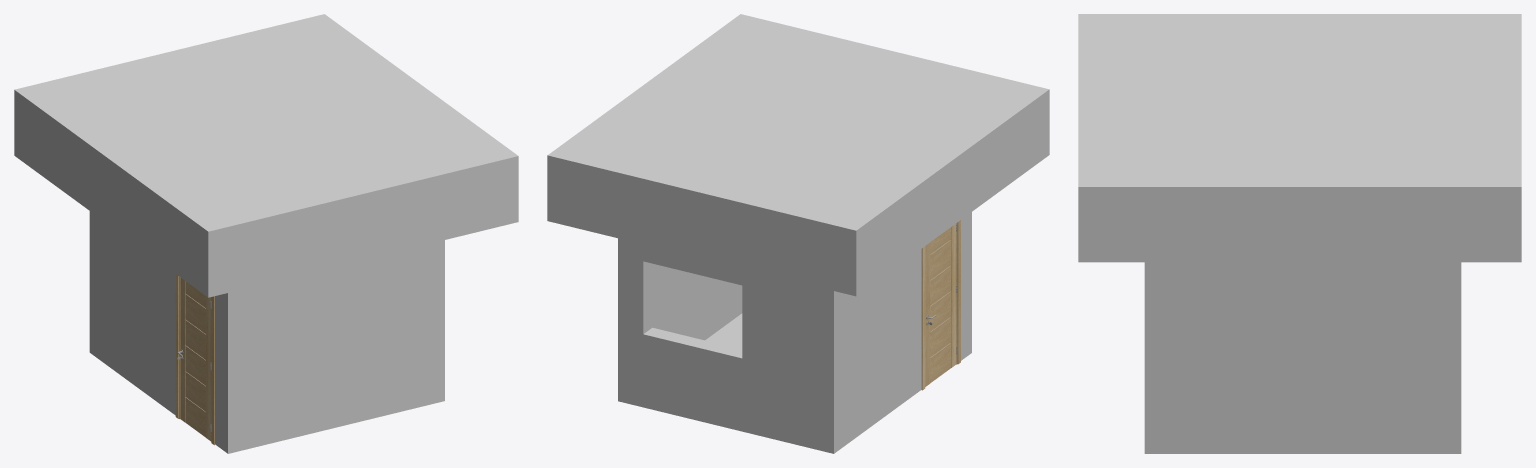
File: cabine.fbx
3 views of the same model, side by side, from view 1: azimuth 30°, elevation 25°; view 2: azimuth 150°, elevation 25°; view 3: azimuth 270°, elevation 25° (orthographic). The views are drawn at different scales.
Visible parts, largest first — view 1: Componente_34_1, Componente_55_1, Door_Modern___Swing___DO_DUNG1, Door_Modern___Swing___DO_DUNG2, Door_Modern___Frame___CHI_TRAI_SAU1, Door_Modern___Frame___CHI_PHAI_SAU1, Door_Modern___Swing___PANEL_1_1, Door_Modern___Swing___PANEL_5_1, Door_Modern___Swing___PANEL_2_1, Door_Modern___Swing___PANEL_3_1, Door_Modern___Swing___PANEL_4_1; view 2: Componente_34_1, Componente_55_1, Door_Modern___Swing___DO_DUNG1, Door_Modern___Swing___DO_DUNG2, Door_Modern___Frame___CHI_TRAI_SAU1, Door_Modern___Frame___CHI_PHAI_SAU1, Door_Modern___Swing___PANEL_4_1, Door_Modern___Swing___PANEL_1_1, Door_Modern___Swing___PANEL_5_1, Door_Modern___Swing___PANEL_2_1, Door_Modern___Swing___PANEL_3_1; view 3: Componente_34_1, Componente_55_1.
Boxes of the visible parts, <box> form: Componente_34_1: <box>14,14,518,297</box>; Componente_55_1: <box>89,211,444,453</box>; Door_Modern___Swing___DO_DUNG1: <box>206,296,211,441</box>; Door_Modern___Swing___DO_DUNG2: <box>180,277,185,422</box>; Door_Modern___Frame___CHI_TRAI_SAU1: <box>175,274,179,418</box>; Door_Modern___Frame___CHI_PHAI_SAU1: <box>211,296,214,445</box>; Door_Modern___Swing___PANEL_1_1: <box>185,397,205,437</box>; Door_Modern___Swing___PANEL_5_1: <box>185,294,205,333</box>; Door_Modern___Swing___PANEL_2_1: <box>185,372,205,411</box>; Door_Modern___Swing___PANEL_3_1: <box>185,346,205,385</box>; Door_Modern___Swing___PANEL_4_1: <box>185,320,205,359</box>; Componente_34_1: <box>547,14,1049,296</box>; Componente_55_1: <box>618,212,971,453</box>; Door_Modern___Swing___DO_DUNG1: <box>951,223,956,367</box>; Door_Modern___Swing___DO_DUNG2: <box>925,242,930,386</box>; Door_Modern___Frame___CHI_TRAI_SAU1: <box>921,246,925,390</box>; Door_Modern___Frame___CHI_PHAI_SAU1: <box>957,220,960,364</box>; Door_Modern___Swing___PANEL_4_1: <box>930,265,950,305</box>; Door_Modern___Swing___PANEL_1_1: <box>930,343,950,382</box>; Door_Modern___Swing___PANEL_5_1: <box>930,240,950,279</box>; Door_Modern___Swing___PANEL_2_1: <box>930,317,950,356</box>; Door_Modern___Swing___PANEL_3_1: <box>930,291,950,331</box>; Componente_34_1: <box>1078,14,1521,262</box>; Componente_55_1: <box>1144,262,1461,453</box>.
Size of the model in its own units: 4520 by 3557 by 4897.
